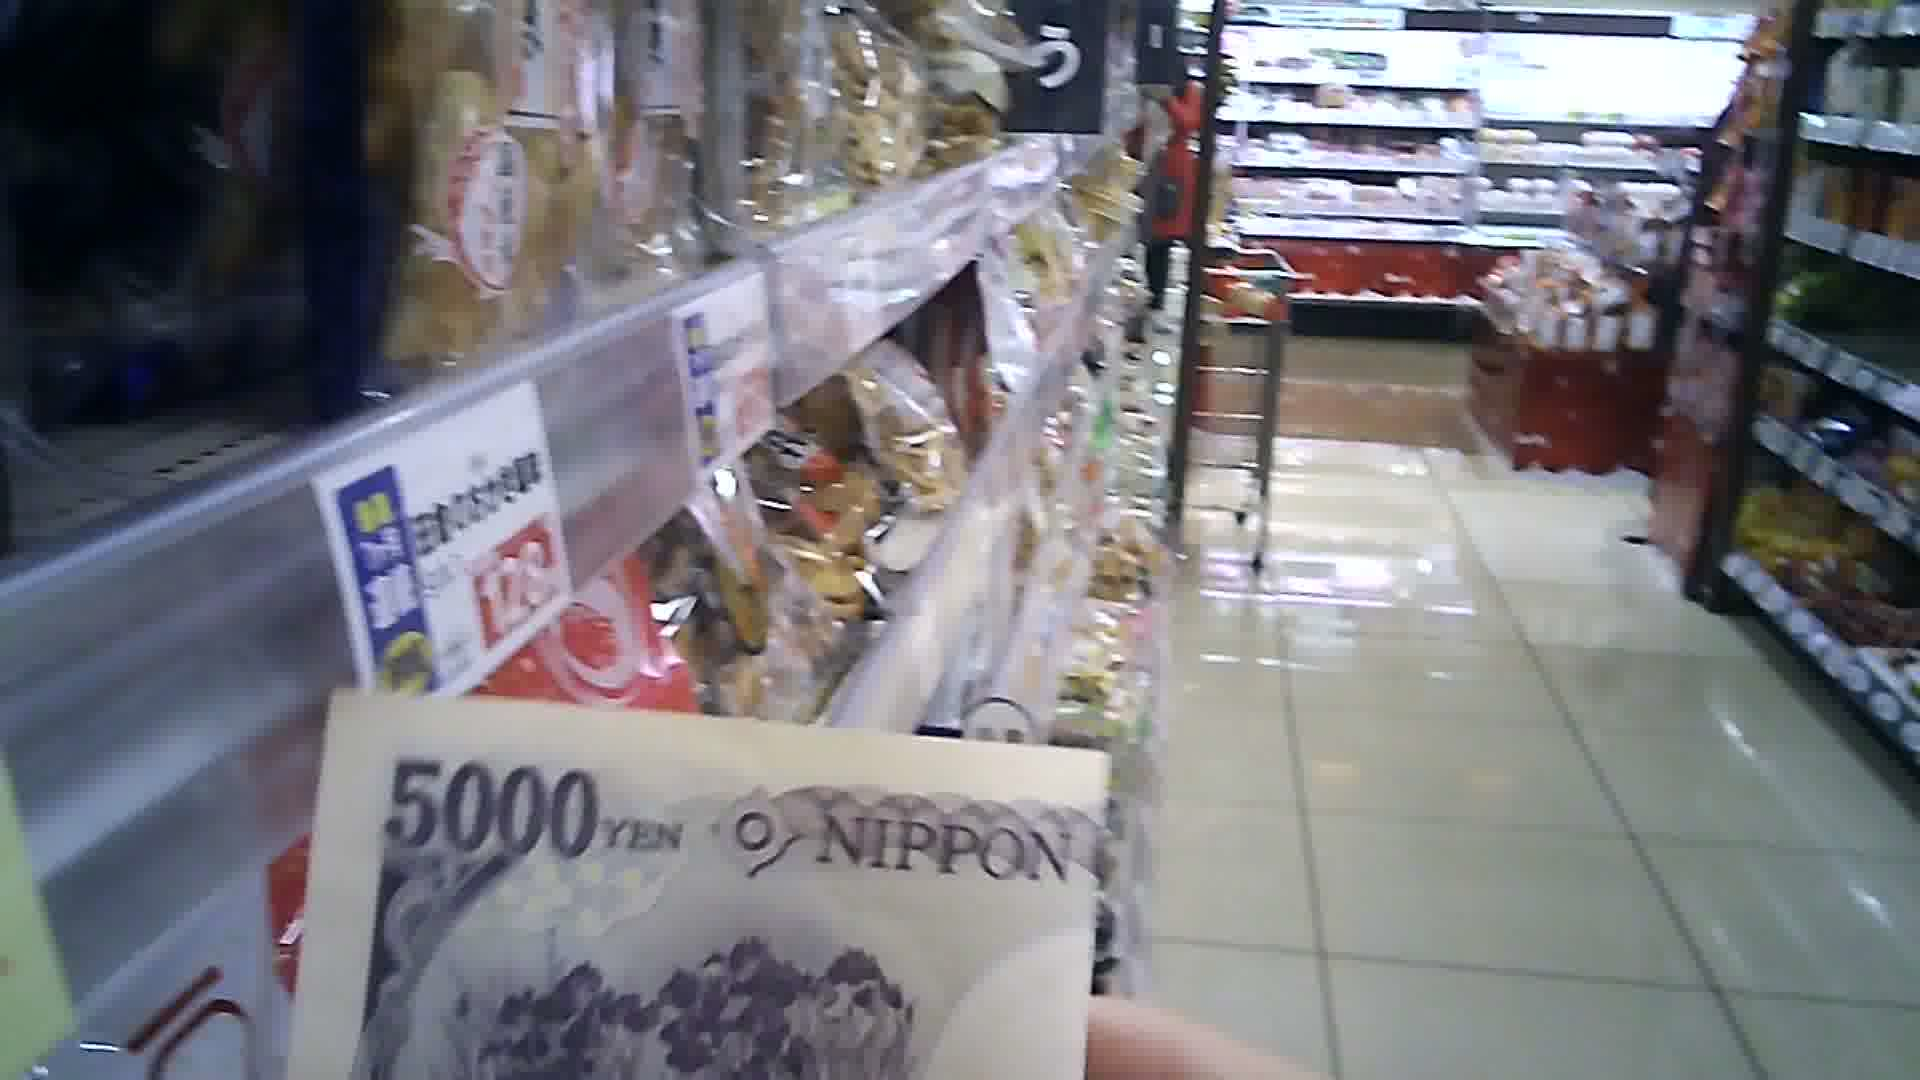5,000 Yen: (270, 659, 1109, 1079)
